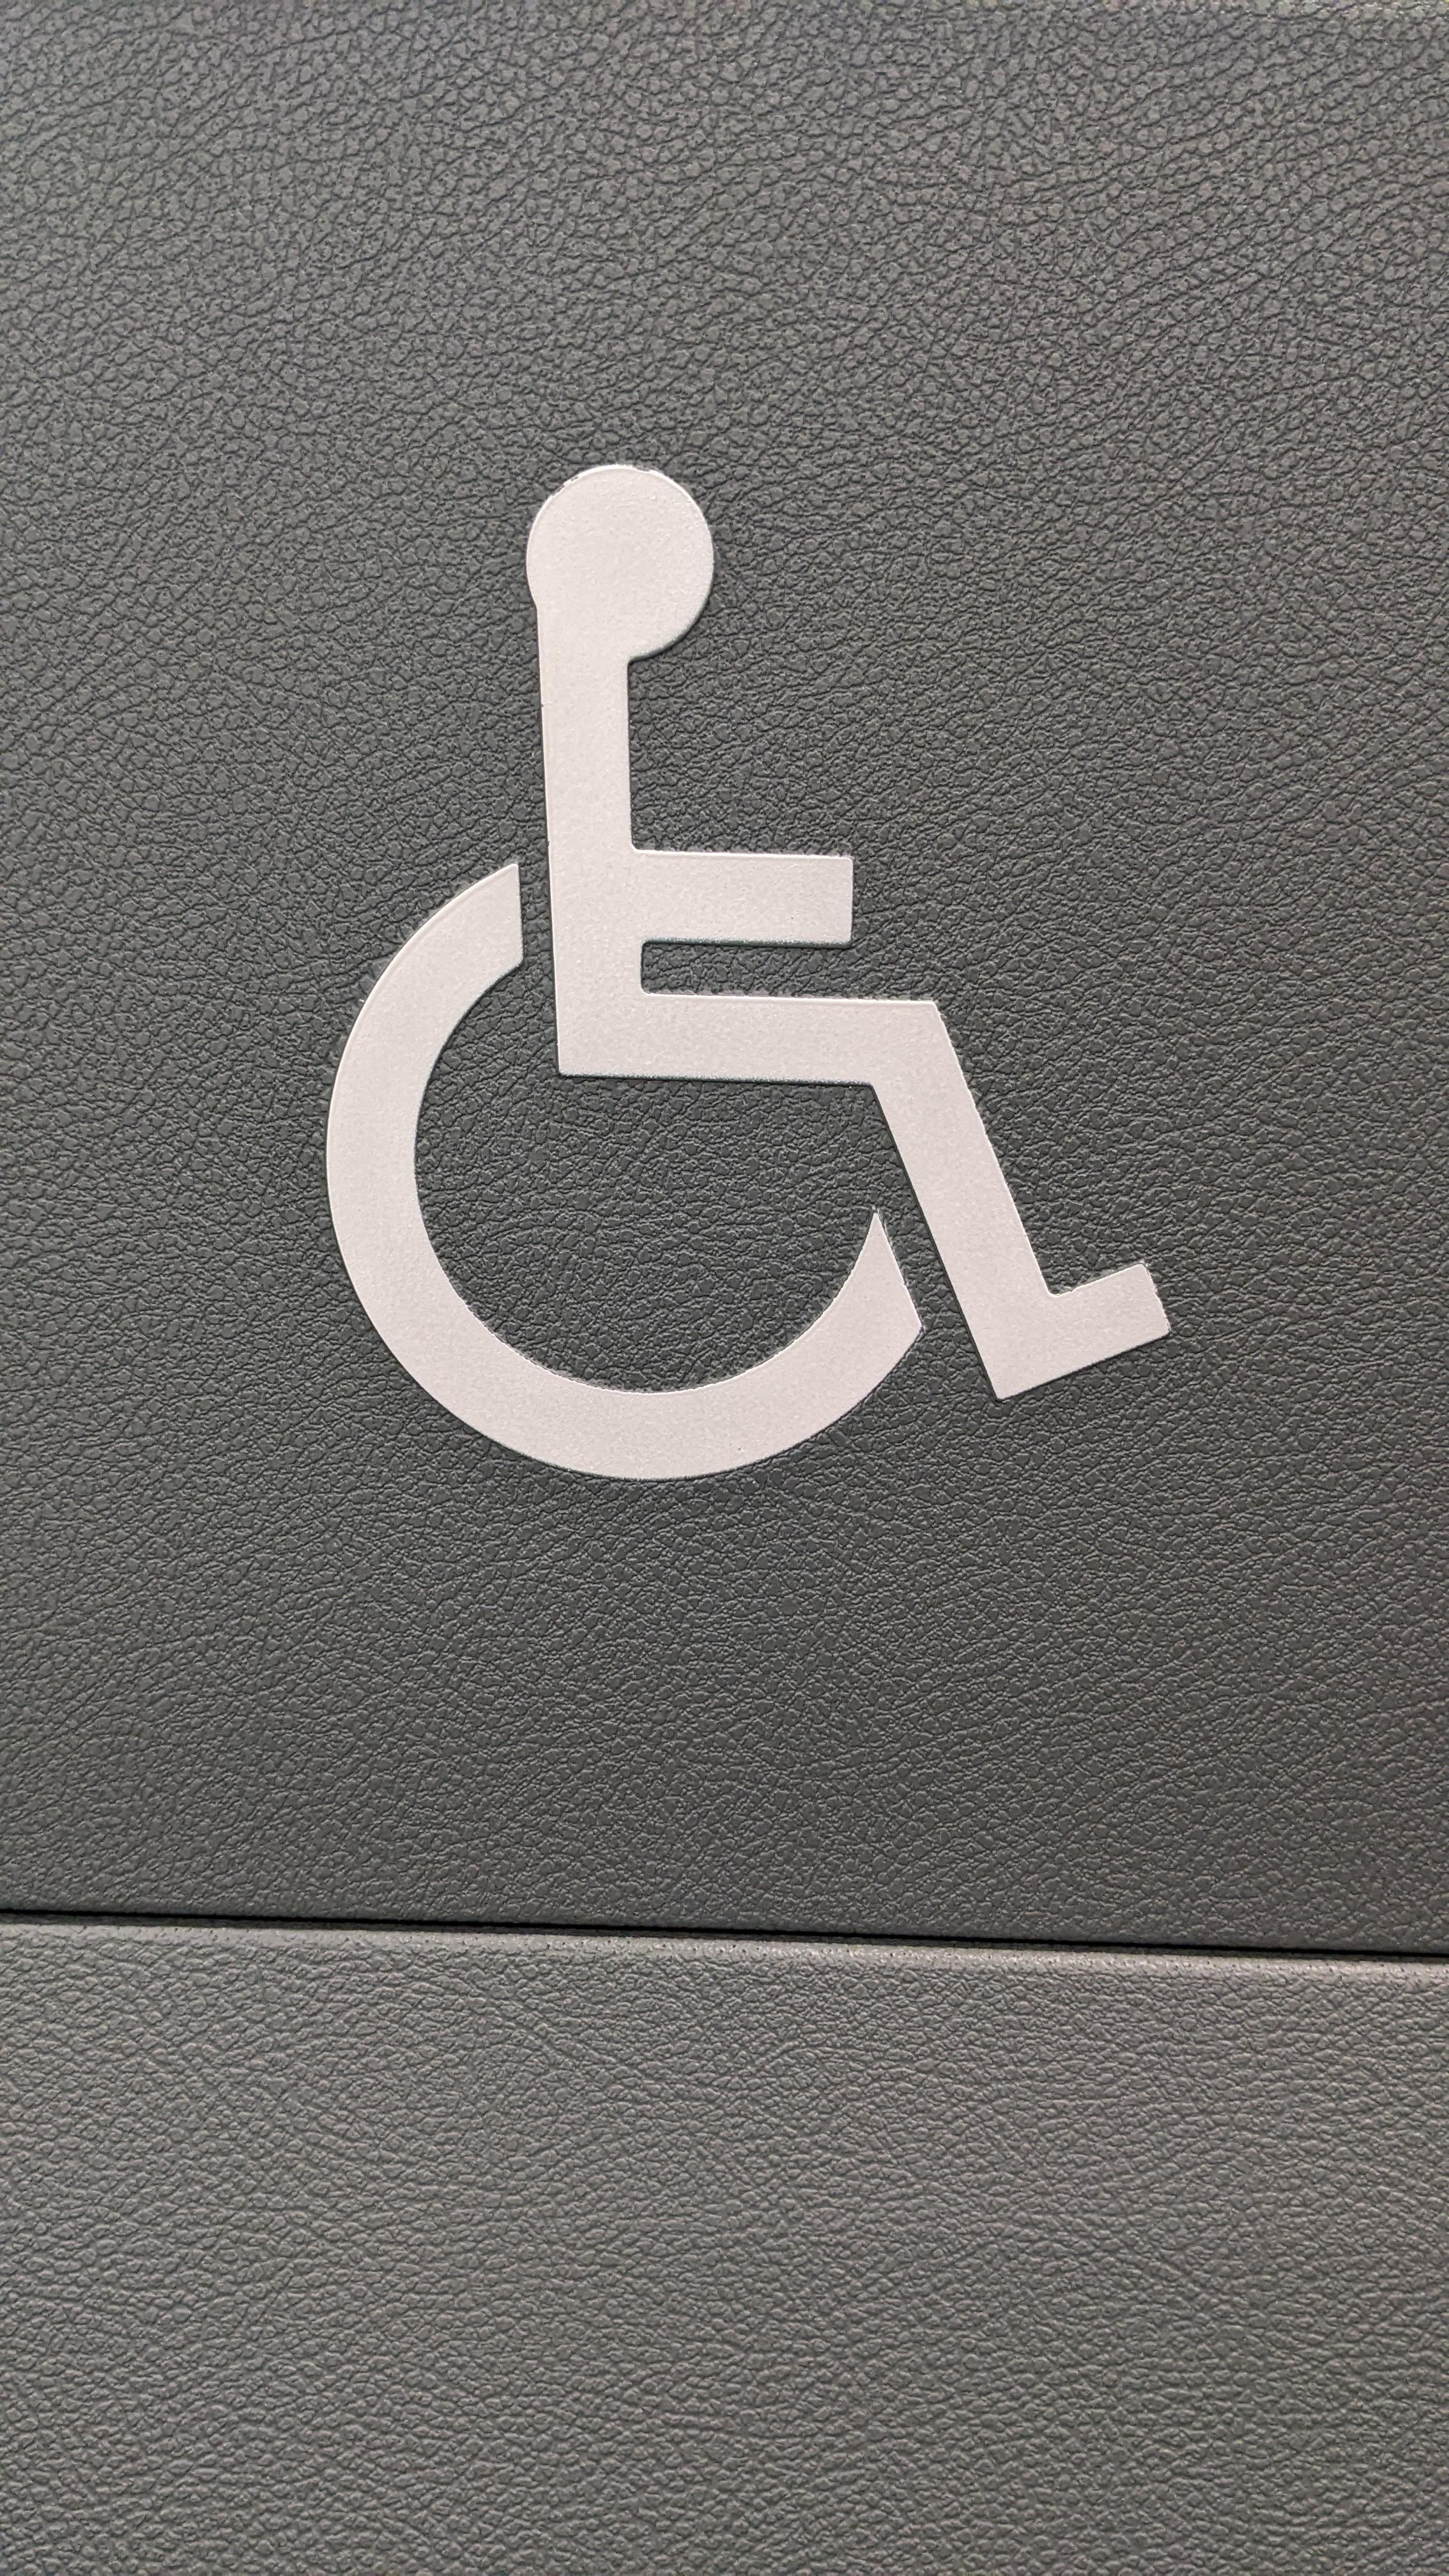handicapped symbol: (280, 405, 1198, 1536)
